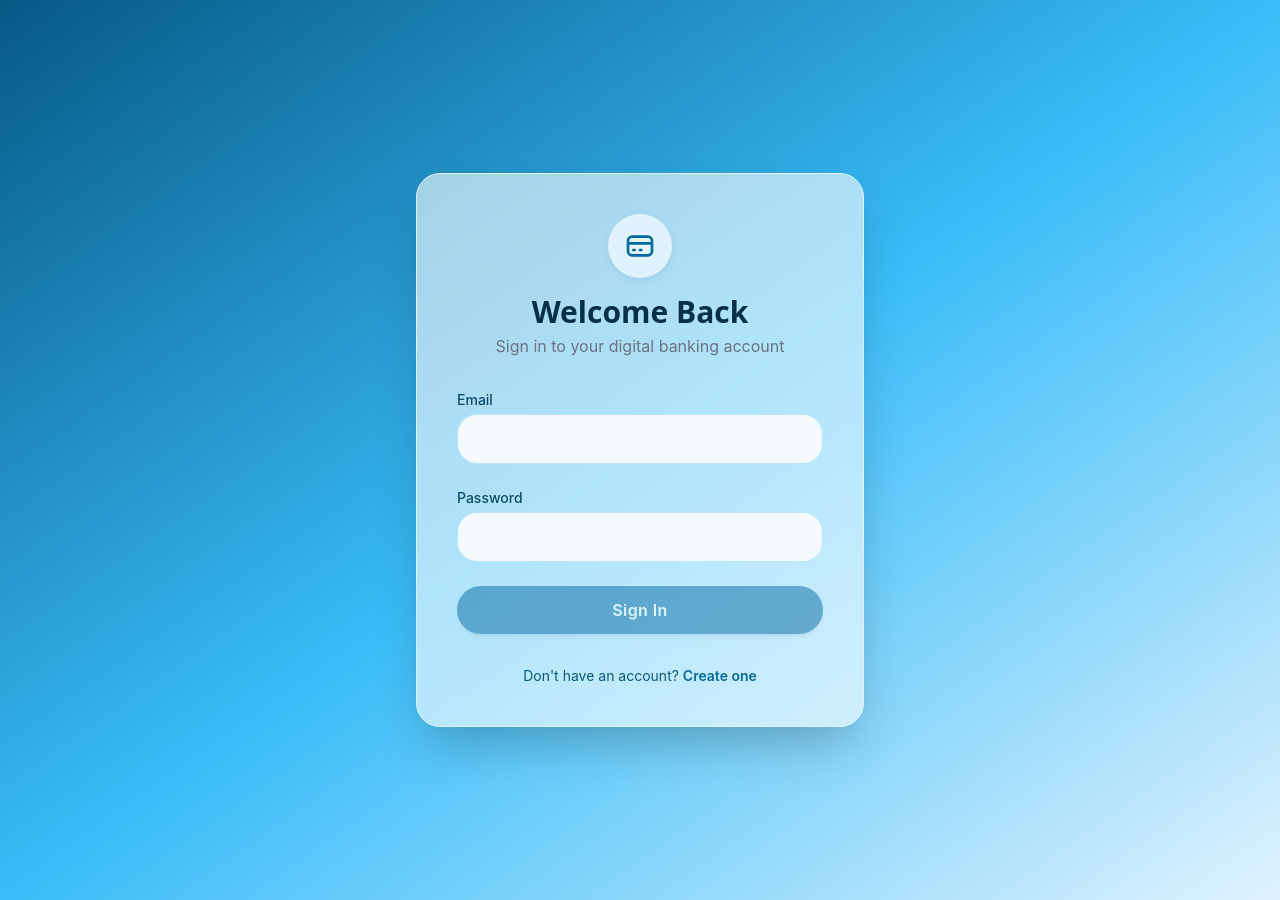
Test case: LoginPage › submit button becomes enabled when both fields are filled
Type "test@example.com" into the field labelled "Email" at (640, 439), box [457, 414, 823, 464]
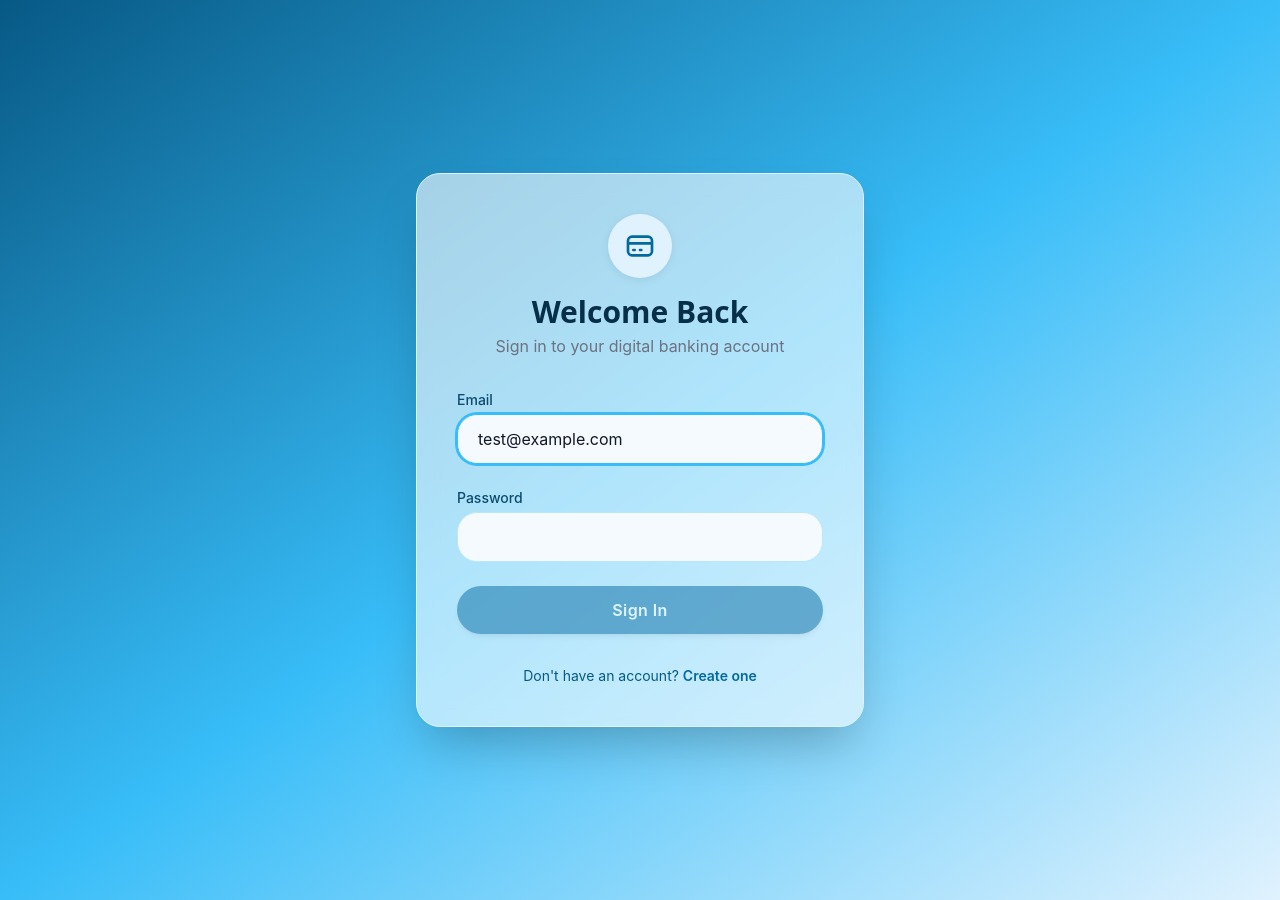
Type "password123" into the password field labelled "Password" at (640, 537), box [457, 512, 823, 562]
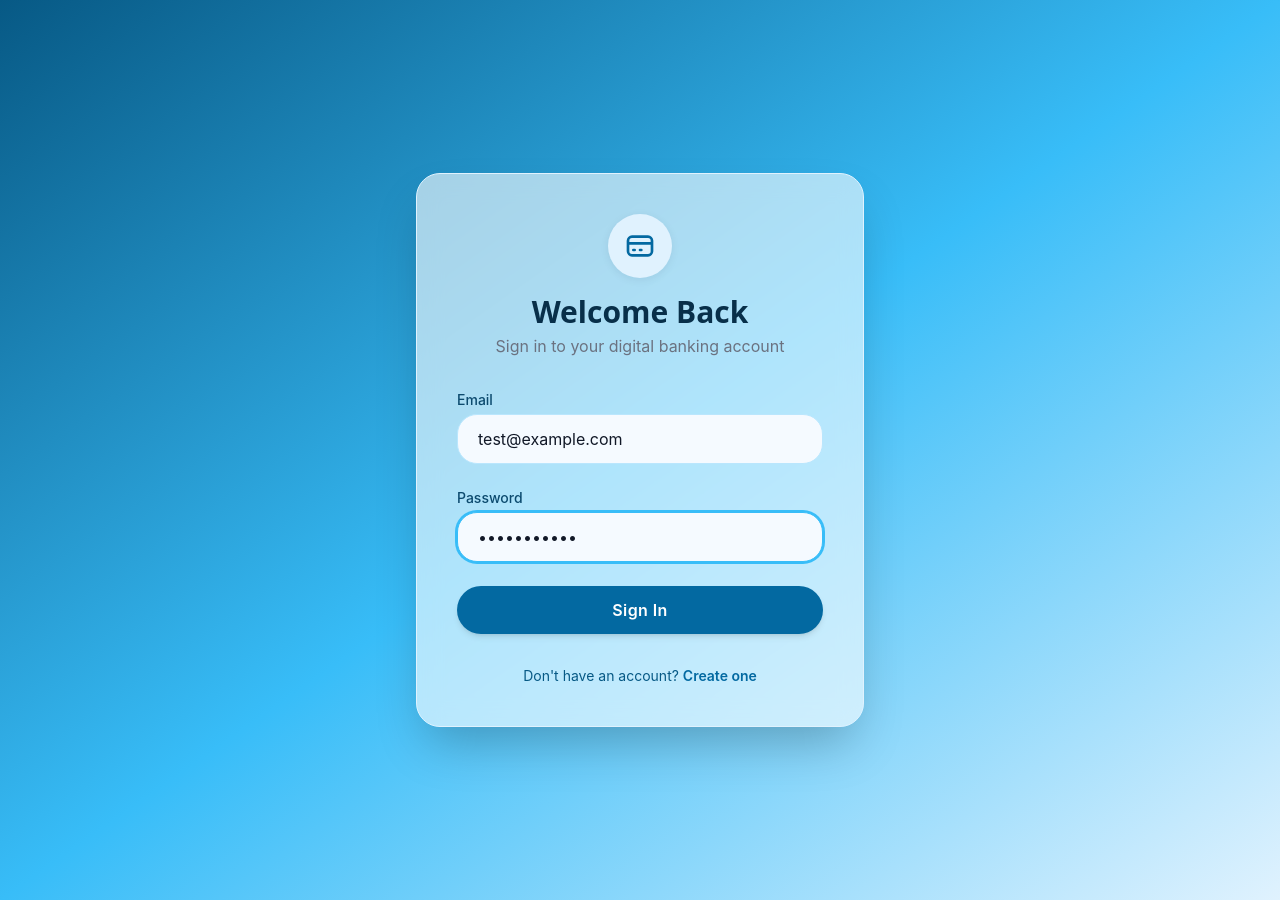
Result: the button "Sign In" is enabled at [457, 586, 823, 634]
